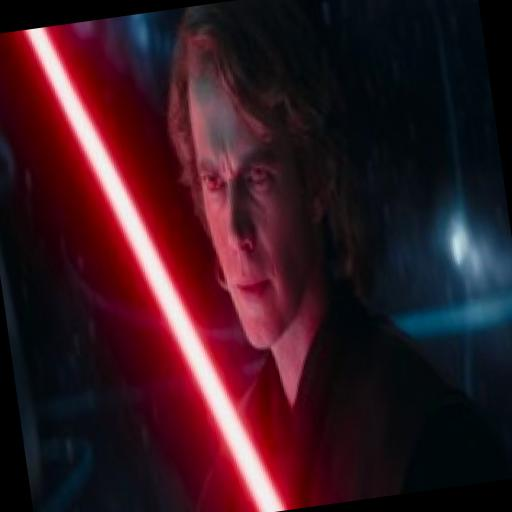human: (143, 0, 512, 512)
sith saber: (18, 1, 300, 512)
